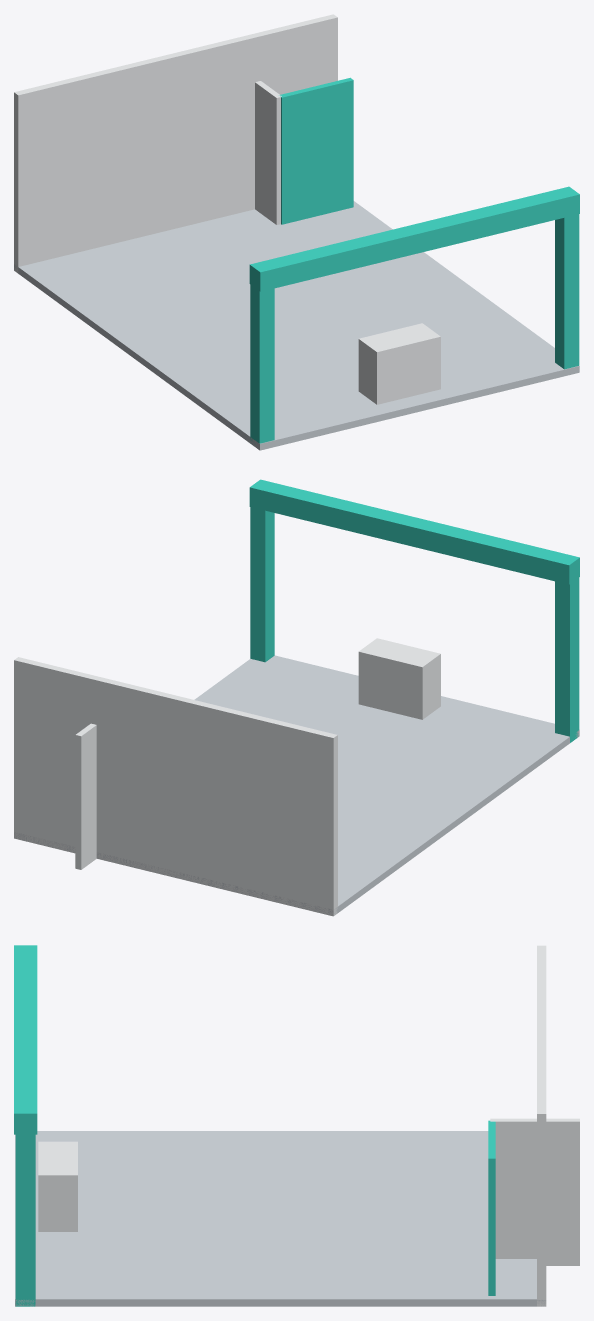
3 views of the same model, one above another, from view 1: azimuth 30°, elevation 25°; view 2: azimuth 150°, elevation 25°; view 3: azimuth 270°, elevation 25° (orthographic). The views are drawn at different scales.
Visible parts, largest first — view 1: Exhibition Booth Concept; view 2: Exhibition Booth Concept; view 3: Exhibition Booth Concept.
Part boxes in pixels (x1,y1,x2,y2): Exhibition Booth Concept: [14, 14, 579, 450]; Exhibition Booth Concept: [14, 479, 579, 916]; Exhibition Booth Concept: [14, 945, 579, 1306].
Bounding box in the file's own units: 6 × 3.2 × 8.52.
